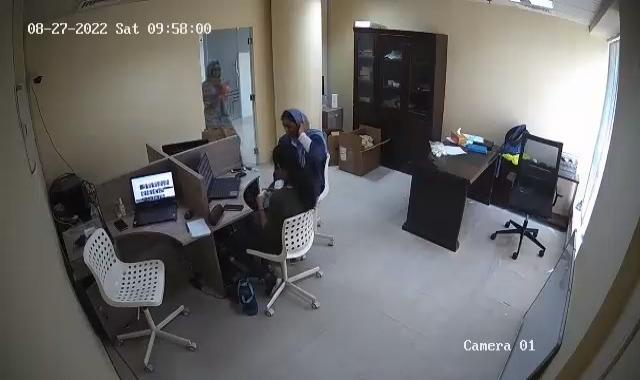no_hairnet: (273, 144, 304, 182), (277, 107, 308, 137)
